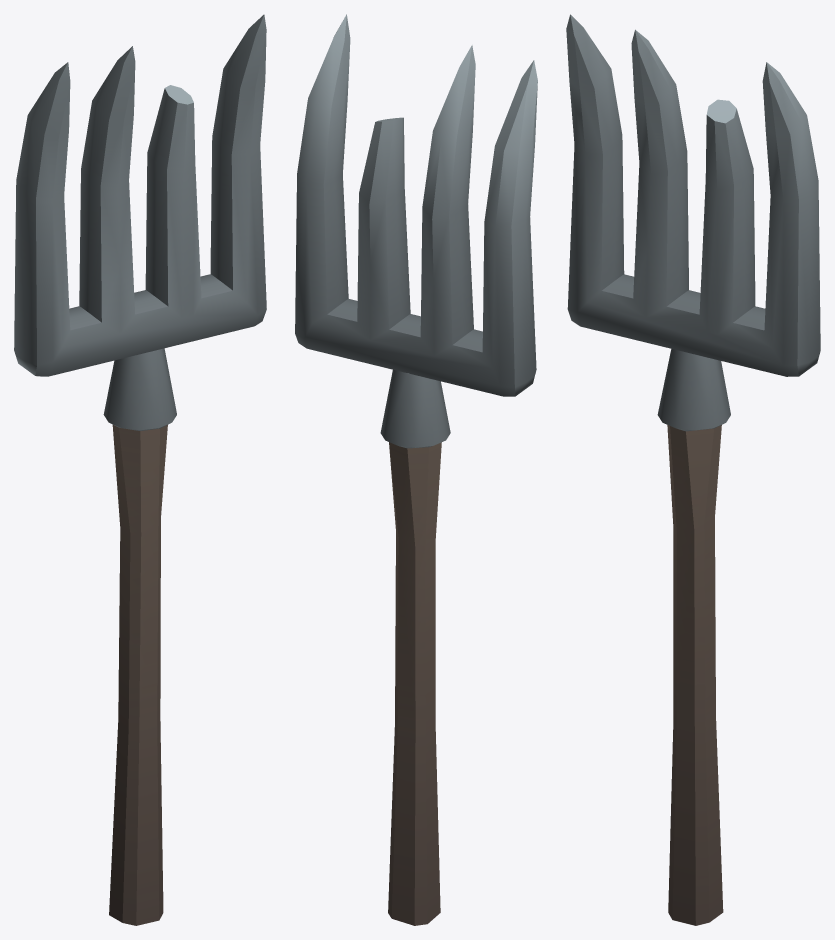
The model's file is pitchfork.gltf.
The picture shows the model from 3 angles, left to right: view 1: azimuth 30°, elevation 25°; view 2: azimuth 150°, elevation 25°; view 3: azimuth 330°, elevation 25°; orthographic projection. The views are drawn at different scales.
Parts seen in each view (by area): view 1: pitchfork; view 2: pitchfork; view 3: pitchfork.
Part boxes in pixels (x1,y1,x2,y2): pitchfork: (14,14,266,925); pitchfork: (295,14,537,925); pitchfork: (566,14,820,925).
Size of the model in its own units: 0.64 by 2.31 by 0.2044.
1 material, 1 textured.
